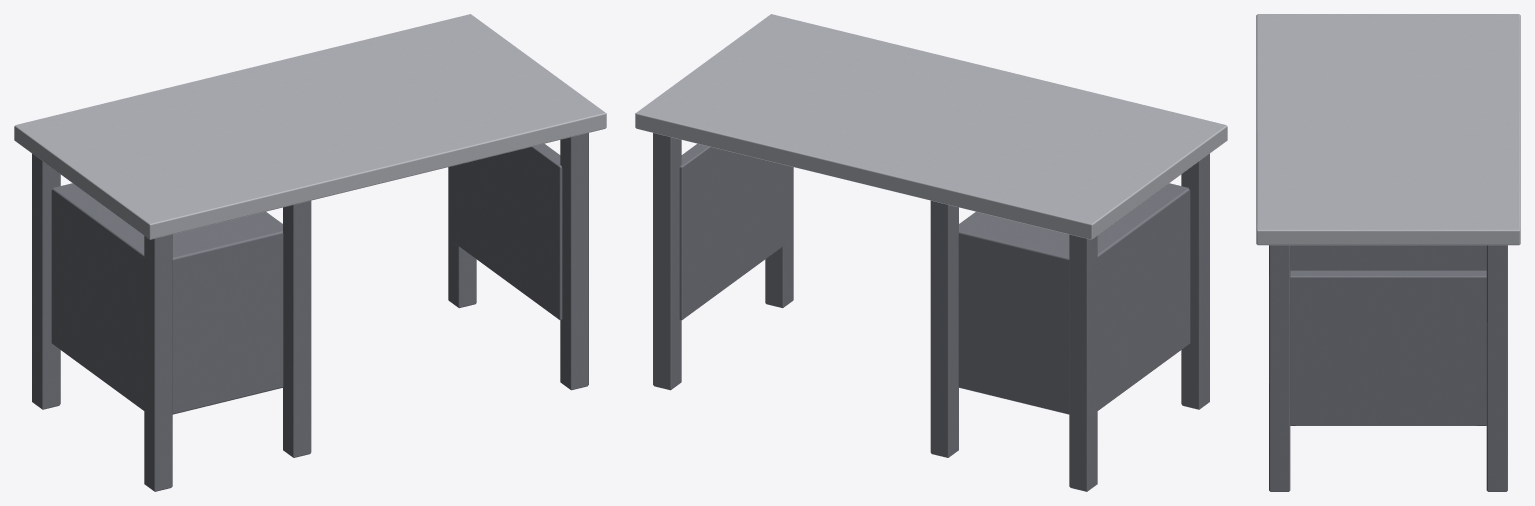
File: desk_basic_lod2.glb
3 views of the same model, side by side, from view 1: azimuth 30°, elevation 25°; view 2: azimuth 150°, elevation 25°; view 3: azimuth 270°, elevation 25° (orthographic). The views are drawn at different scales.
Visible parts, largest first — view 1: BATCH_Desk_Basic_LOD2_Desk_Basic_Body, BATCH_Desk_Basic_LOD2_Desk_Basic_Surface; view 2: BATCH_Desk_Basic_LOD2_Desk_Basic_Body, BATCH_Desk_Basic_LOD2_Desk_Basic_Surface; view 3: BATCH_Desk_Basic_LOD2_Desk_Basic_Surface, BATCH_Desk_Basic_LOD2_Desk_Basic_Body.
Boxes of the visible parts, x1,y1,x2,y2 form: BATCH_Desk_Basic_LOD2_Desk_Basic_Body: (32,133,588,491); BATCH_Desk_Basic_LOD2_Desk_Basic_Surface: (14,14,606,239); BATCH_Desk_Basic_LOD2_Desk_Basic_Body: (653,133,1209,491); BATCH_Desk_Basic_LOD2_Desk_Basic_Surface: (635,14,1227,239); BATCH_Desk_Basic_LOD2_Desk_Basic_Surface: (1256,14,1520,245); BATCH_Desk_Basic_LOD2_Desk_Basic_Body: (1269,245,1507,491).
Bounding box in the file's own units: 1.32 × 0.76 × 0.68.
2 materials, 2 textured.
